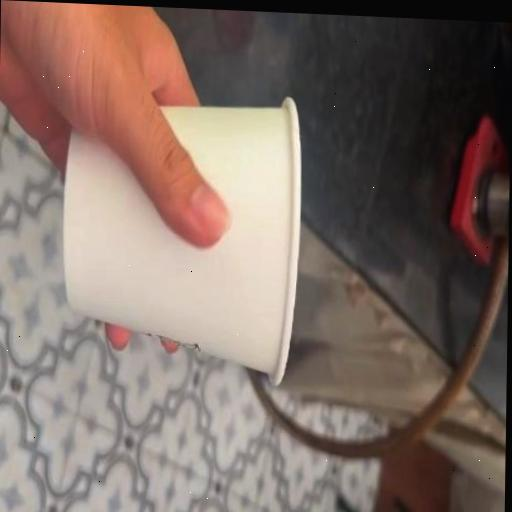ly_giay: (62, 98, 300, 383)
